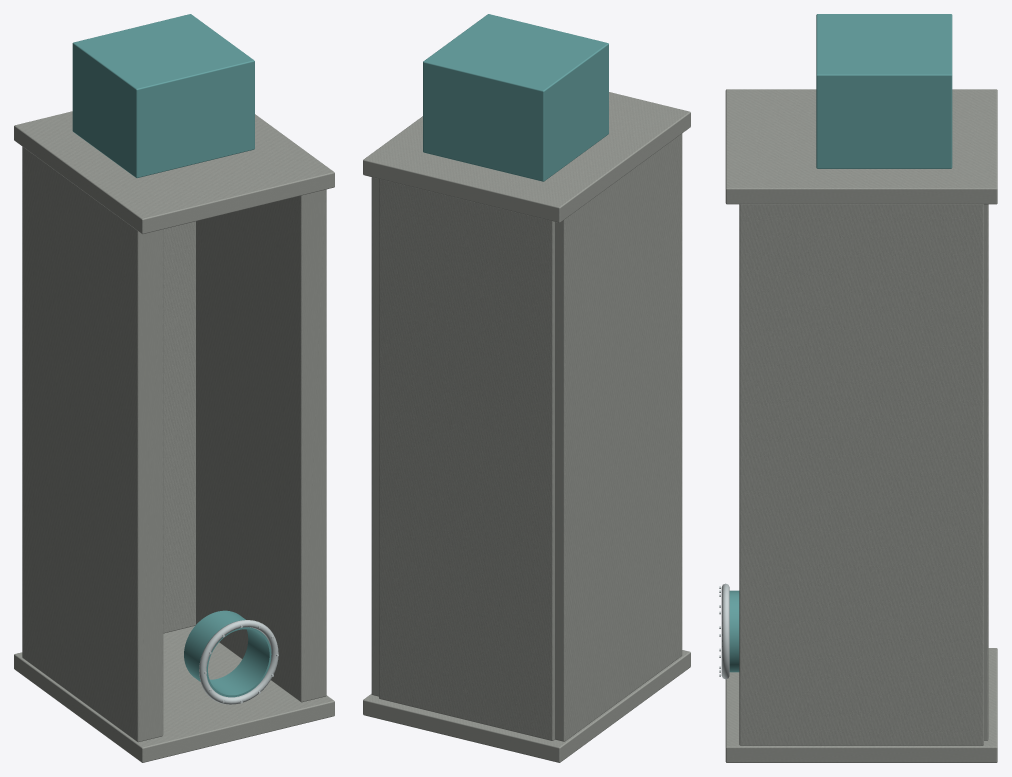
File: hydroelectric-dam-infiltration-intake-tower-2d8f7b3a__29336.glb
The picture shows the model from 3 angles, left to right: view 1: azimuth 30°, elevation 25°; view 2: azimuth 150°, elevation 25°; view 3: azimuth 270°, elevation 25°; orthographic projection. The views are drawn at different scales.
Visible parts, largest first — view 1: intake-tower; view 2: intake-tower; view 3: intake-tower.
Boxes of the visible parts, x1,y1,x2,y2 form: intake-tower: (14, 14, 334, 762); intake-tower: (363, 14, 690, 762); intake-tower: (719, 14, 997, 762).
Bounding box in the file's own units: 2.6 × 8.15 × 3.07.
Materials: 3 (1 with a texture image).
